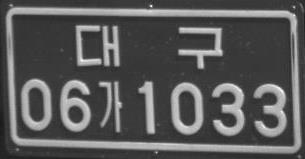0: (170, 81, 203, 134), (20, 77, 52, 131)
1: (133, 79, 164, 134)
3: (253, 81, 287, 137), (212, 82, 245, 136)
6: (58, 78, 92, 132)
가: (97, 79, 123, 132)
대구_D: (74, 25, 223, 70)
